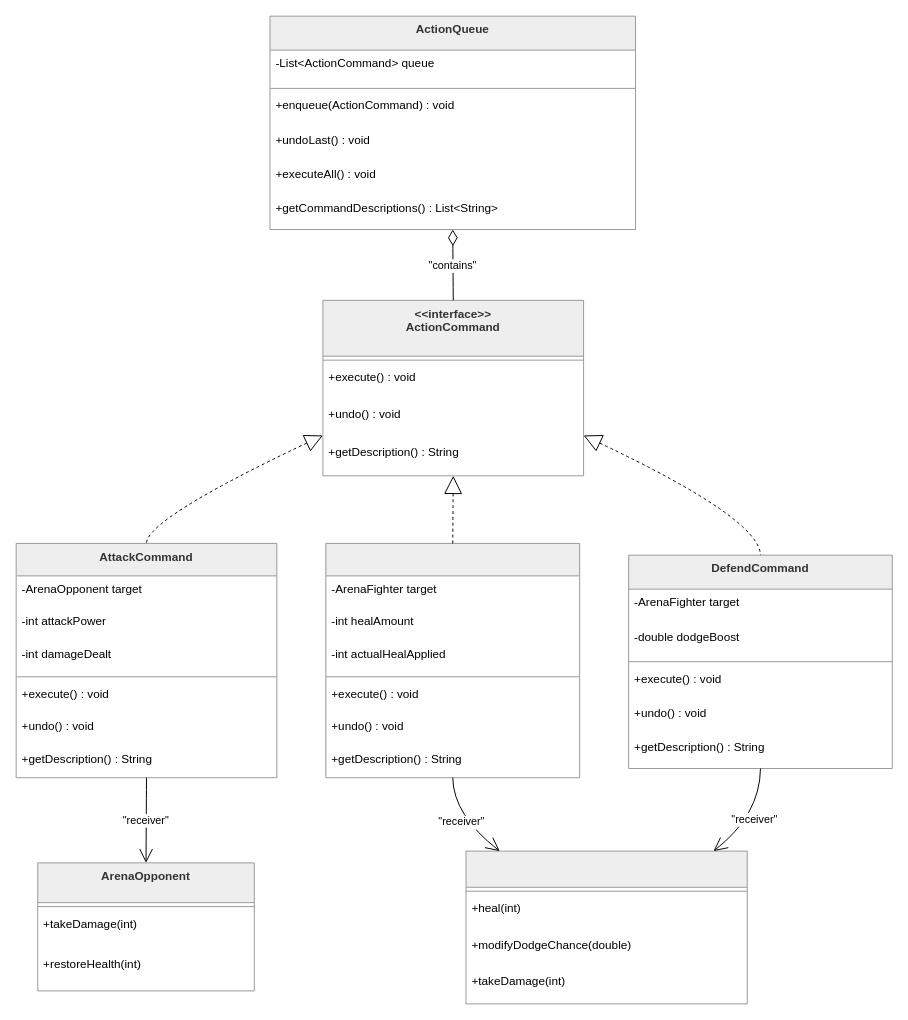
The diagram is 908 pixels wide and 1020 high, and some of its shapes have lost their labels. Here are the shapes that lost their labels. From the top down, the box of each, then its label:
(325, 542, 580, 778): HealCommand
(465, 850, 747, 1004): ArenaFighter
